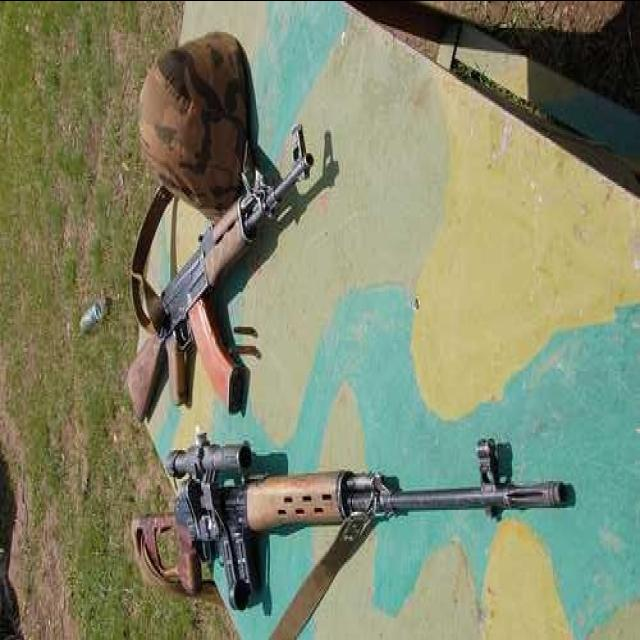heavyweapon: (126, 398, 580, 640), (94, 119, 348, 481)
